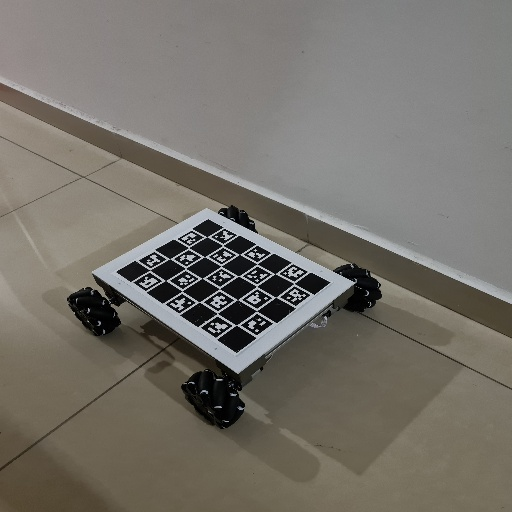Omniwheel: (66, 204, 384, 432)
